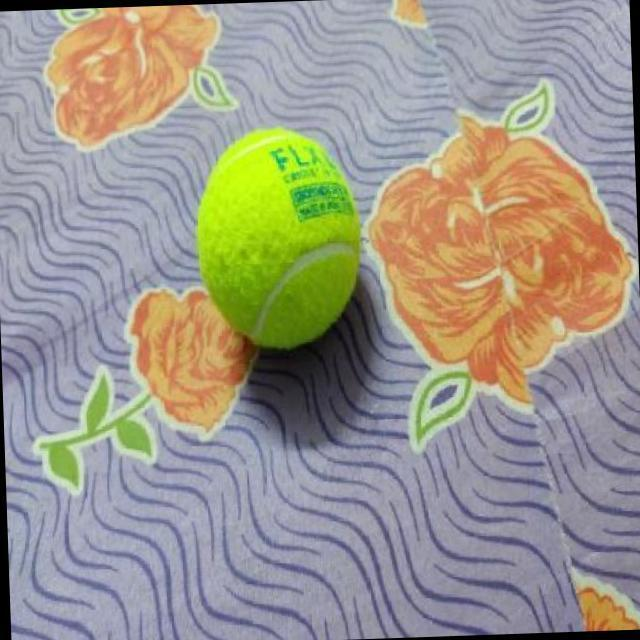-: (191, 127, 366, 360)
